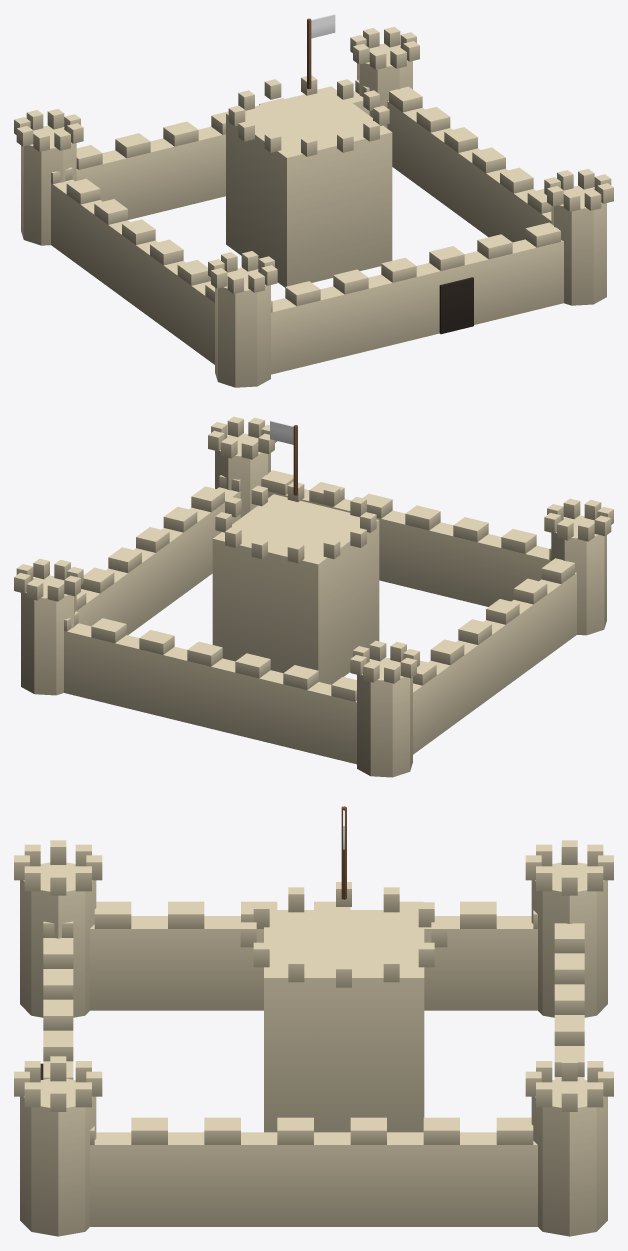
Rendered from FORT_ME.glb.
The picture shows the model from 3 angles, top to bottom: view 1: azimuth 30°, elevation 25°; view 2: azimuth 150°, elevation 25°; view 3: azimuth 270°, elevation 25°; orthographic projection. The views are drawn at different scales.
Visible parts, largest first — view 1: Body; view 2: Body; view 3: Body.
Part boxes in pixels (bbox=[...]): Body: bbox=[14, 18, 613, 387]; Body: bbox=[14, 416, 613, 777]; Body: bbox=[14, 806, 613, 1236].
Size of the model in its own units: 5.98 by 3.4 by 5.98.
Materials: 1 (1 with a texture image).
